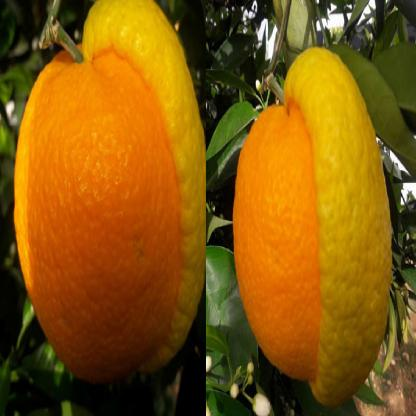orange: (16, 40, 199, 396), (225, 86, 383, 380)
